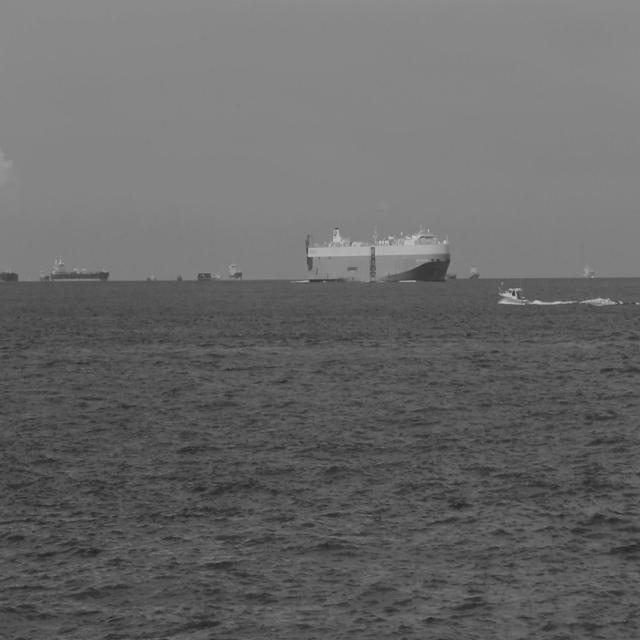ship: (303, 221, 451, 282), (50, 248, 110, 280), (497, 276, 530, 307), (227, 259, 243, 281), (0, 264, 20, 281), (467, 257, 481, 279), (38, 263, 50, 281), (196, 269, 212, 282), (444, 268, 458, 279), (175, 272, 184, 282)
